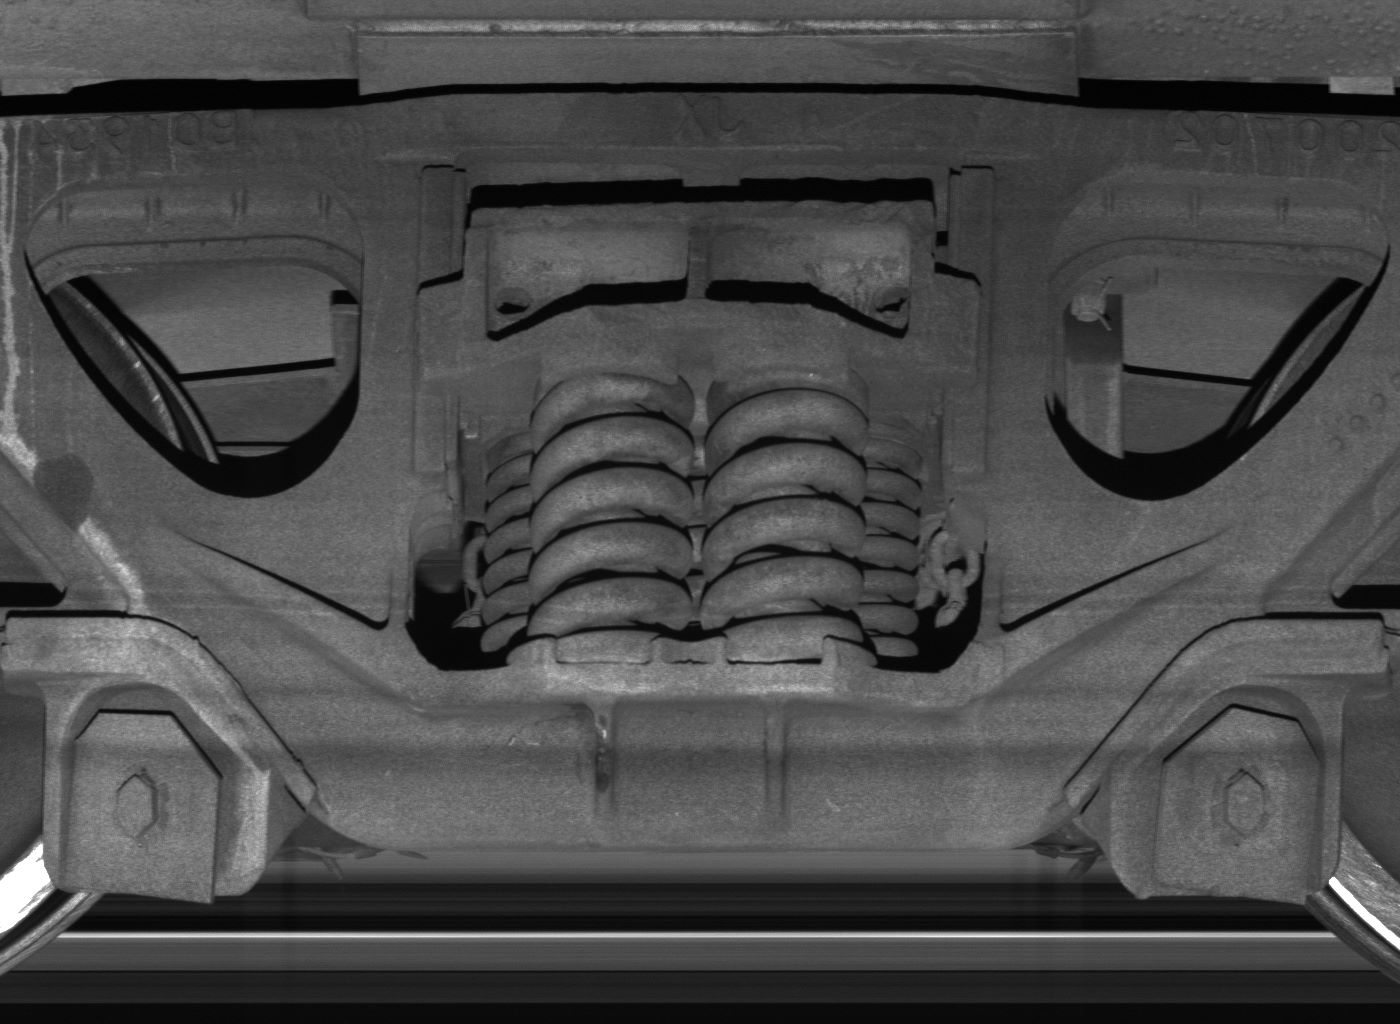Locking plate: (1114, 684, 1341, 908)
normal: (42, 682, 268, 904)
